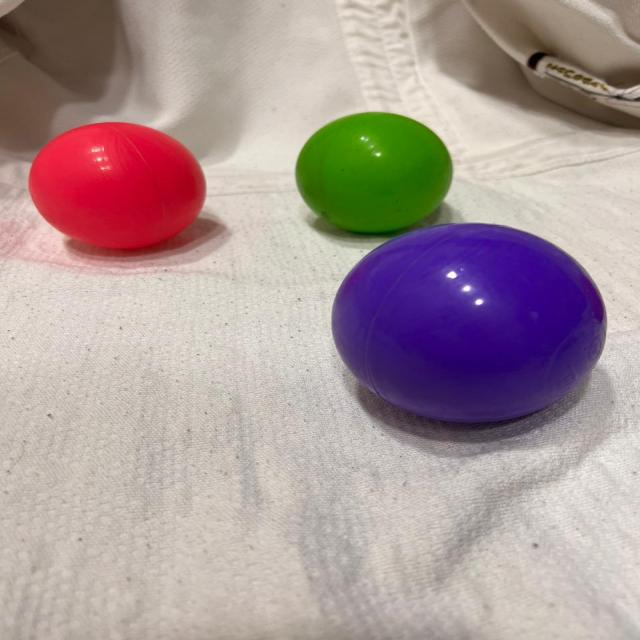ball: (329, 219, 610, 427), (24, 118, 209, 253), (293, 109, 458, 235)
